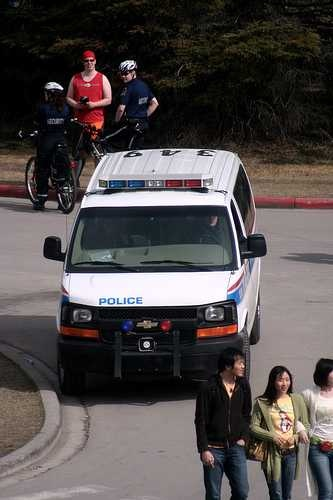Police Car: (53, 135, 282, 407)
